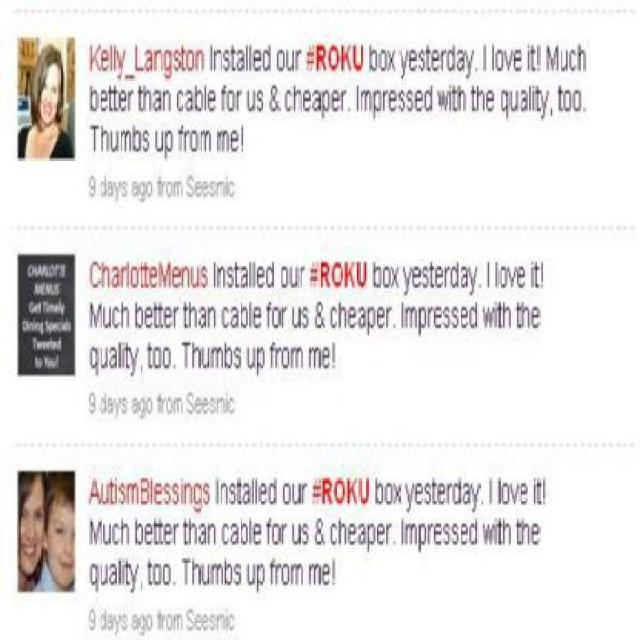Person: (22, 43, 70, 146), (37, 468, 74, 590), (19, 470, 44, 588)
